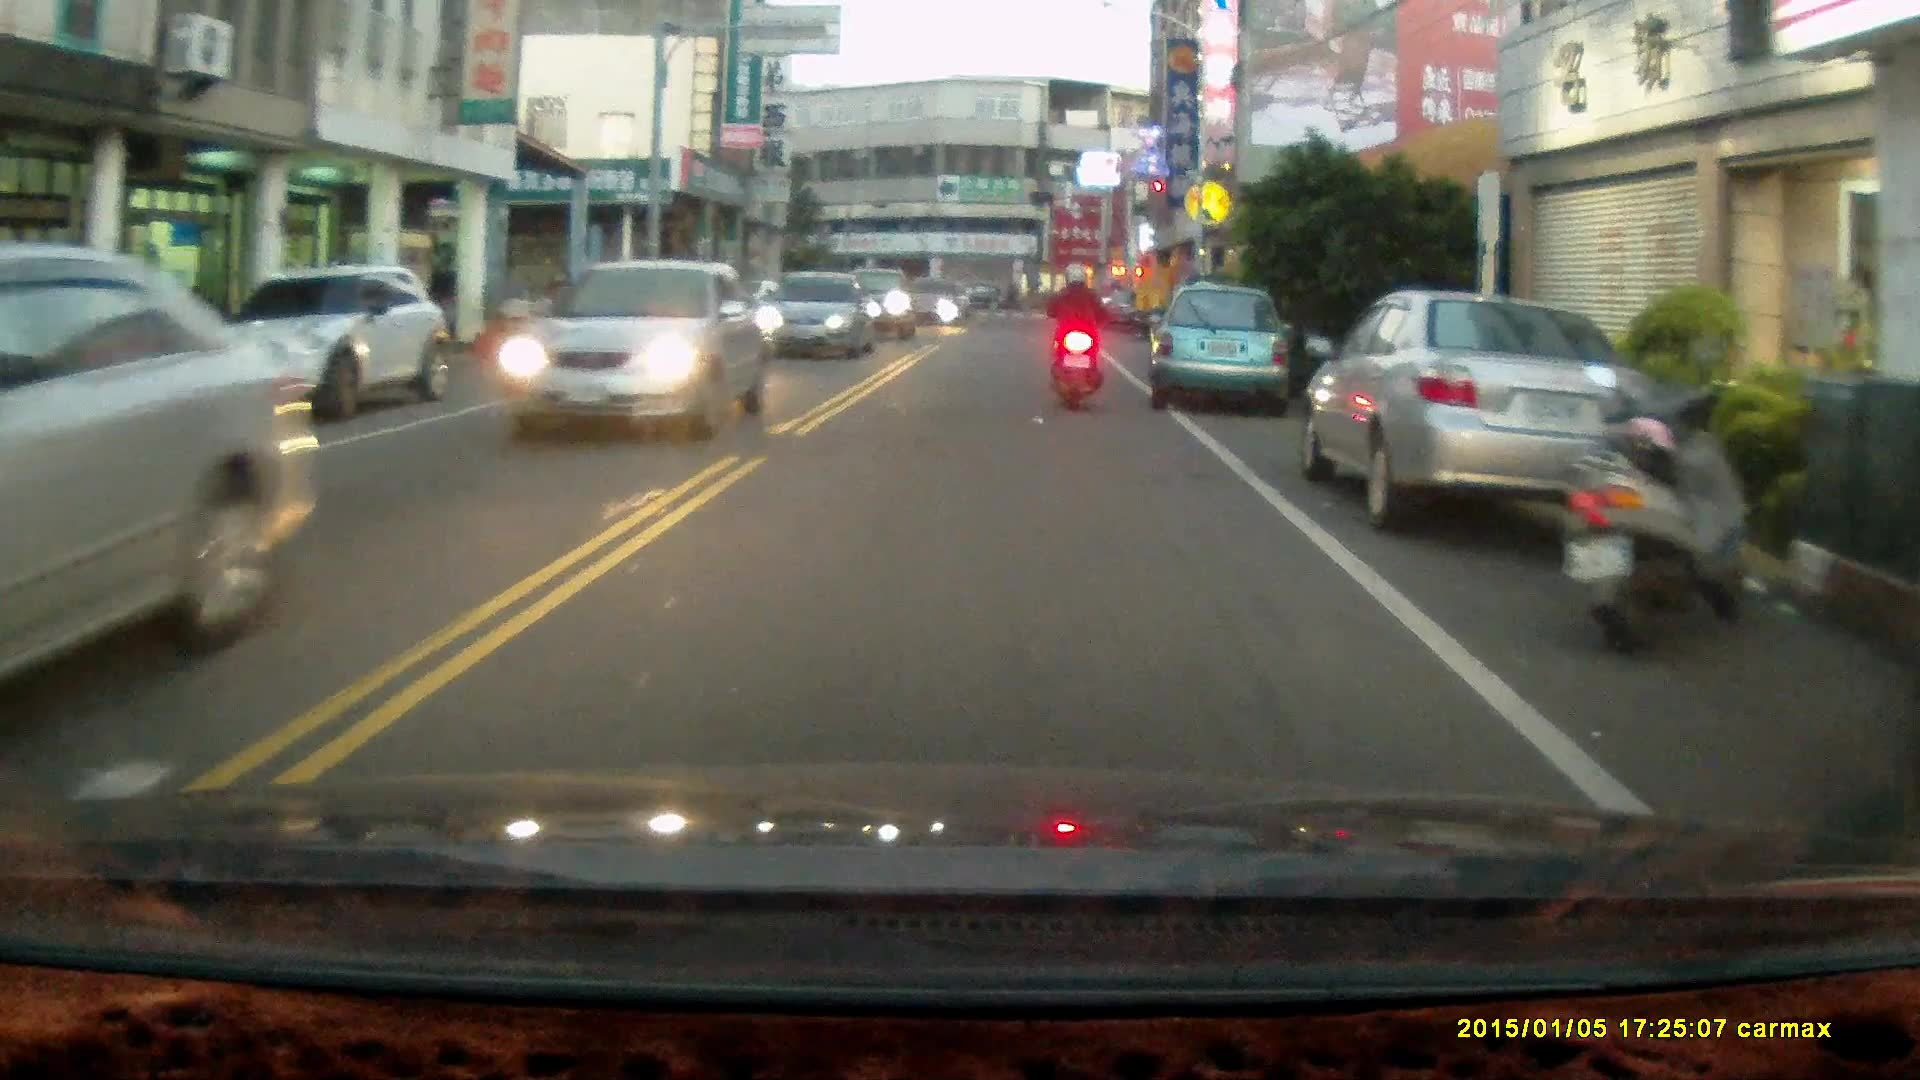rider: (1042, 261, 1110, 412)
vehicle: (2, 245, 315, 730), (1294, 293, 1684, 534), (496, 265, 776, 441), (227, 268, 471, 411), (1149, 281, 1297, 421), (751, 269, 877, 363)
